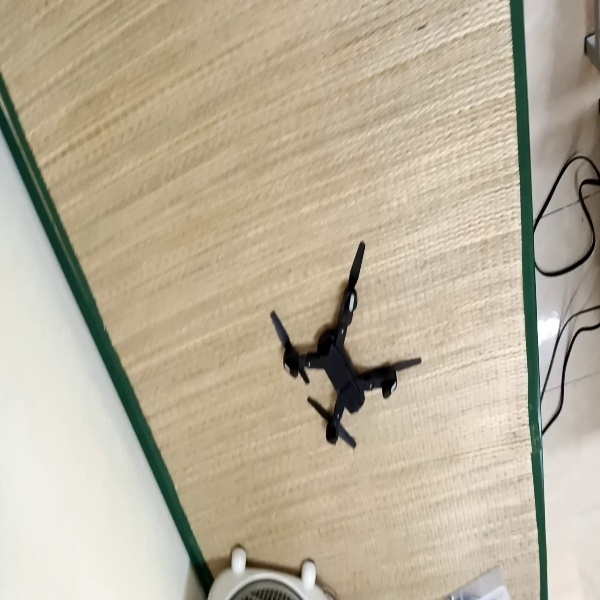drone: (265, 236, 427, 453)
